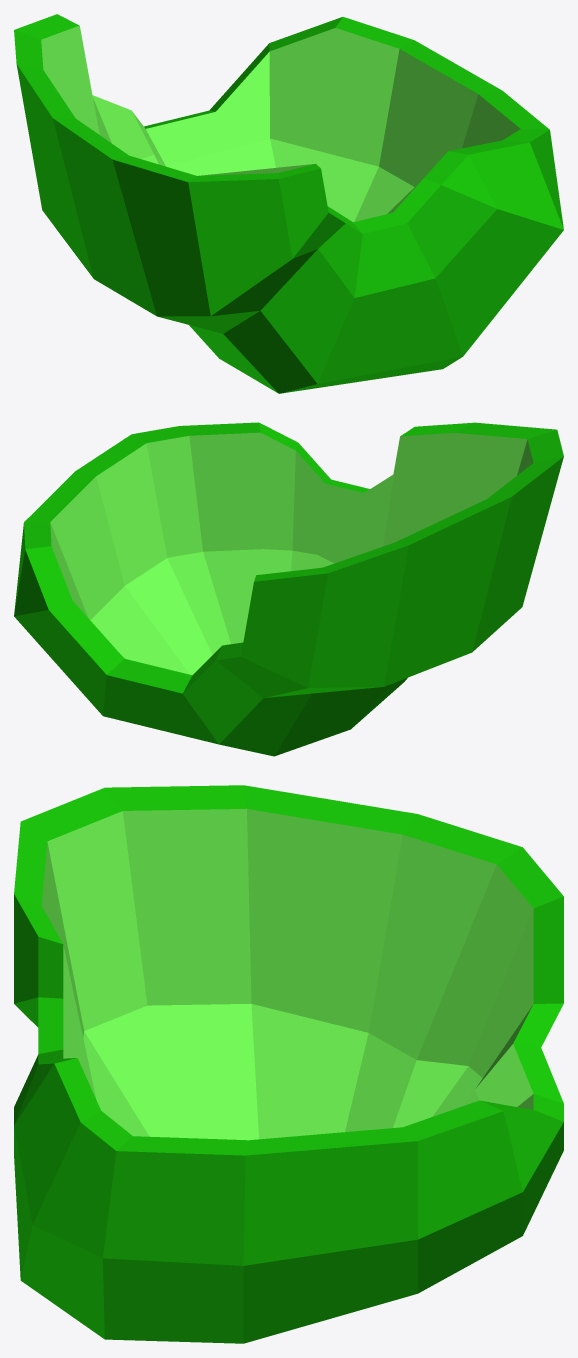
The model's file is pepperfruit06.gltf.
3 renders of one model, top to bottom at view 1: azimuth 30°, elevation 25°; view 2: azimuth 150°, elevation 25°; view 3: azimuth 270°, elevation 25°, orthographic. The views are drawn at different scales.
Visible parts, largest first — view 1: Cylinder.001; view 2: Cylinder.001; view 3: Cylinder.001.
Boxes of the visible parts, left/top/right/bottom form: Cylinder.001: left=14, top=14, right=563, bottom=393; Cylinder.001: left=14, top=422, right=563, bottom=756; Cylinder.001: left=14, top=785, right=563, bottom=1343.
Bounding box in the file's own units: 0.0721 × 0.0444 × 0.0617.
Materials: 1 (1 with a texture image).
